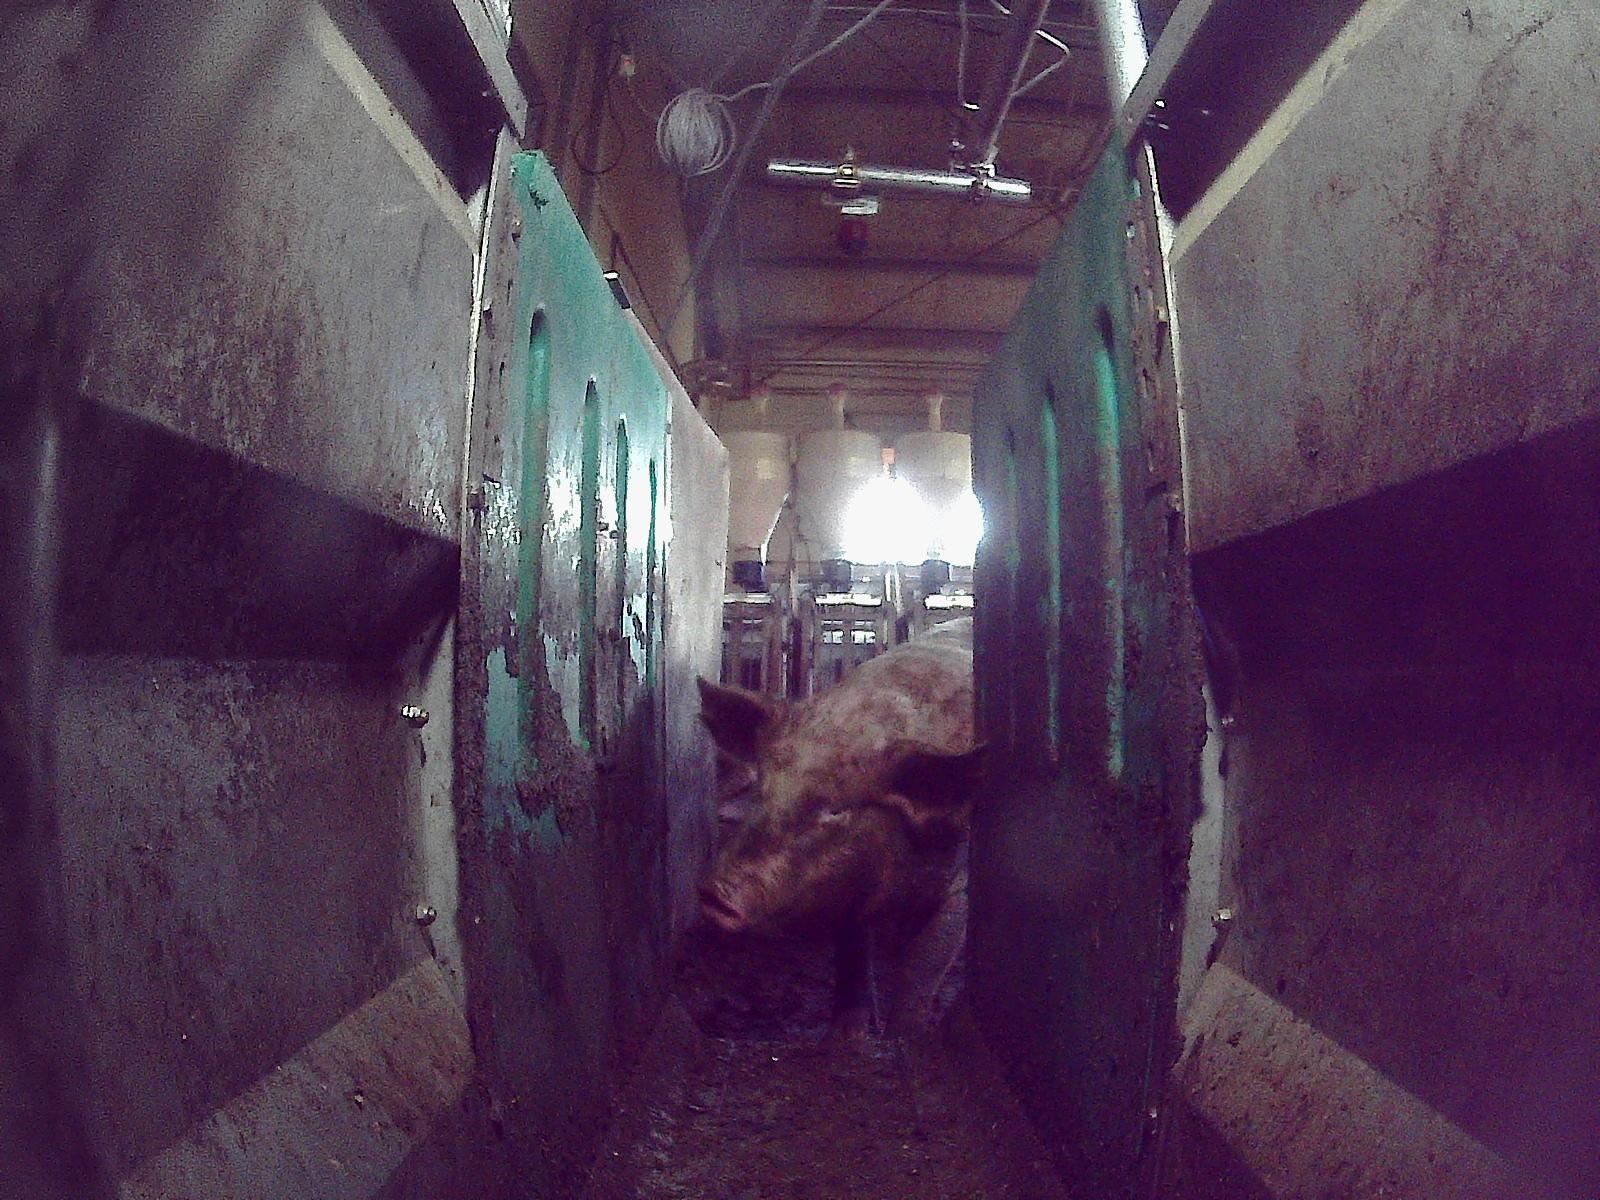Face: (694, 719, 921, 937)
